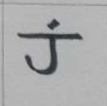anusvara: (50, 20, 59, 28)
